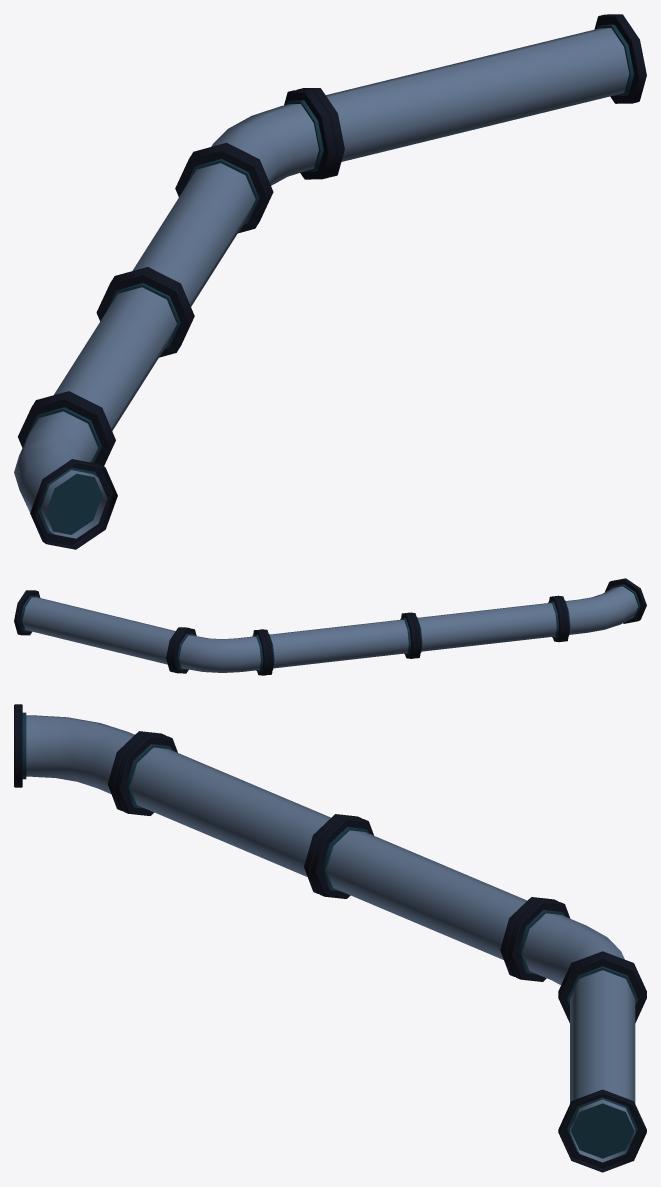
File: PipeComplexSmall_A_24.fbx
The picture shows the model from 3 angles, top to bottom: view 1: azimuth 30°, elevation 25°; view 2: azimuth 150°, elevation 25°; view 3: azimuth 270°, elevation 25°; orthographic projection. The views are drawn at different scales.
Parts seen in each view (by area): view 1: PipeComplexSmall_A_24.001; view 2: PipeComplexSmall_A_24.001; view 3: PipeComplexSmall_A_24.001.
Boxes of the visible parts, <box> form: PipeComplexSmall_A_24.001: <box>14,14,646,549</box>; PipeComplexSmall_A_24.001: <box>14,578,646,675</box>; PipeComplexSmall_A_24.001: <box>14,704,646,1172</box>.
Size of the model in its own units: 1.47 by 0.1356 by 0.9678.
